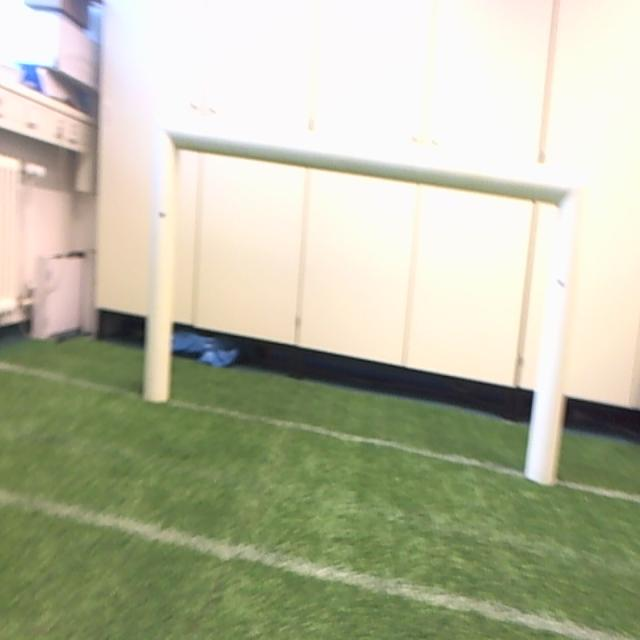goalpost: (524, 183, 584, 487), (142, 123, 178, 400)
